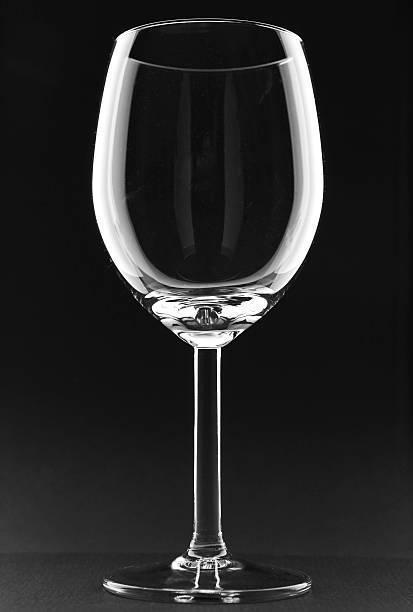glass-wine: (92, 16, 326, 599)
